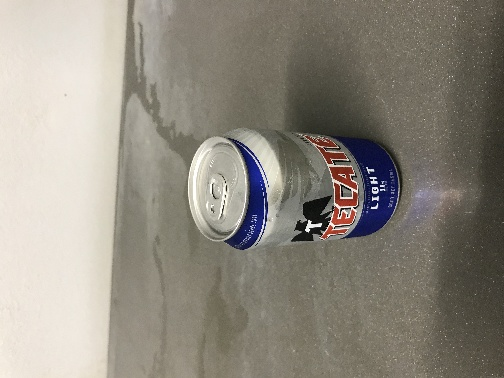TLL: (204, 95, 283, 178)
